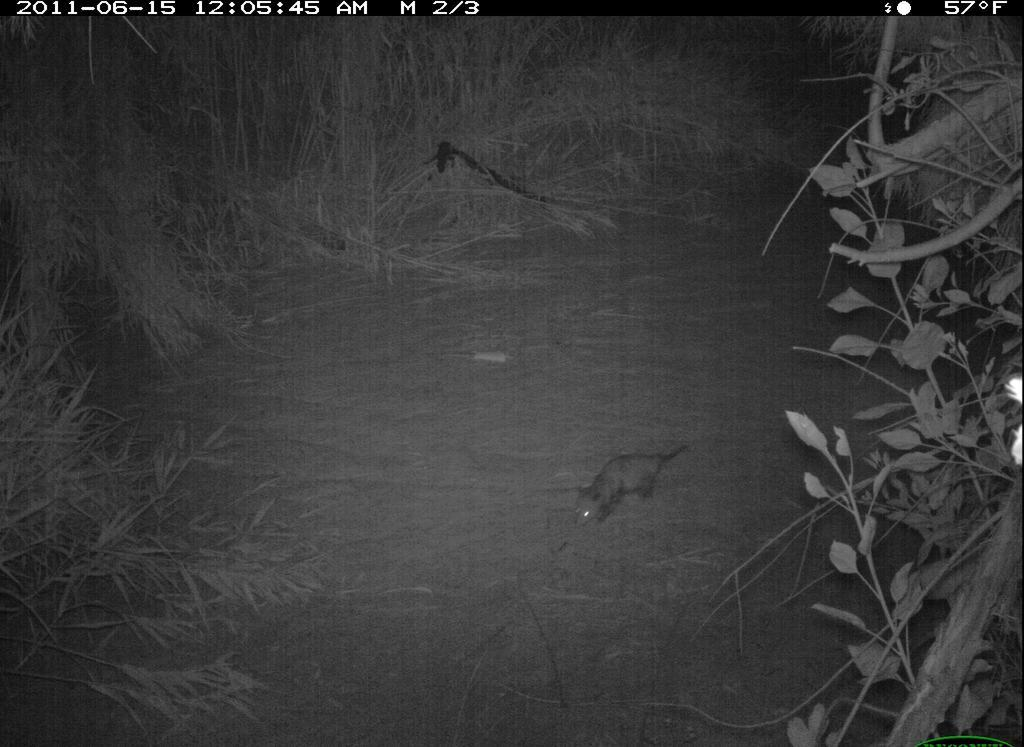opossum: (565, 433, 701, 536)
